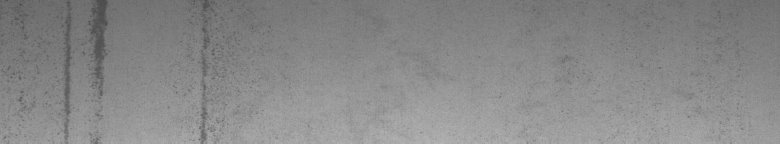hd: (184, 4, 256, 136)
